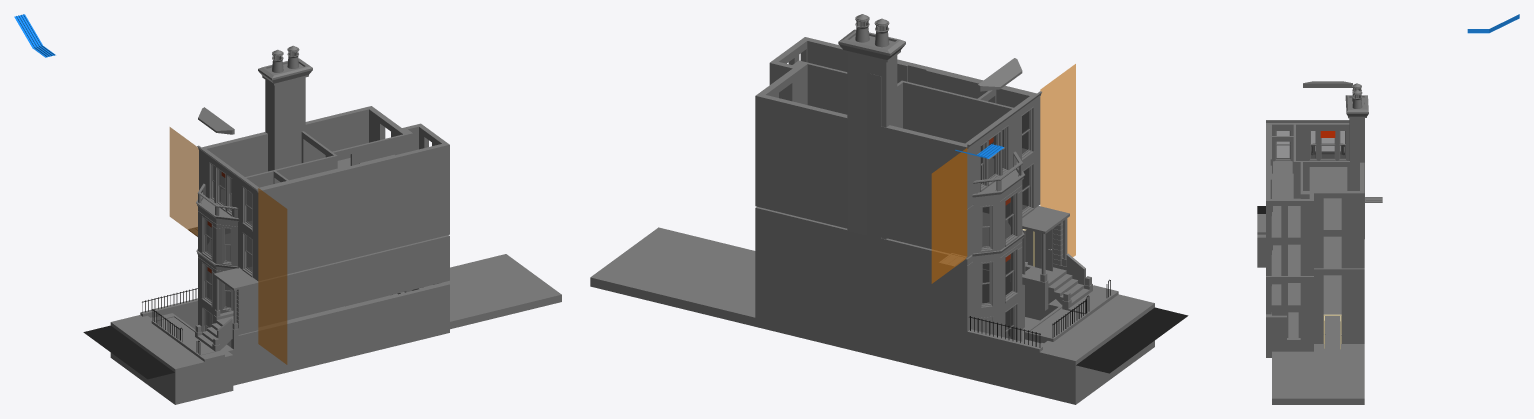
Rendered from VictorianBuilding.gltf.
3 renders of one model, left to right at view 1: azimuth 30°, elevation 25°; view 2: azimuth 150°, elevation 25°; view 3: azimuth 270°, elevation 25°, orthographic. The views are drawn at different scales.
Parts seen in each view (by area): view 1: object 34, object 59, object 33, object 26, object 60, object 88, object 130, object 61, object 89, object 11, object 65, object 21 (+5 smaller); view 2: object 34, object 59, object 26, object 33, object 60, object 130, object 88, object 89, object 61, object 11, object 65, Window_01 (×4) (+10 smaller); view 3: object 34, object 60, object 59, object 66, object 33, object 26, object 61, object 21, object 130, Window_01 (×2), object 27, Window_01#1 (×2) (+1 smaller).
Boxes of the visible parts, box(x1,y1,x2,y2) form: object 34: box(199, 106, 449, 235); object 59: box(150, 281, 449, 397); object 33: box(198, 190, 449, 281); object 26: box(198, 238, 449, 326); object 60: box(429, 254, 561, 329); object 88: box(258, 188, 287, 364); object 130: box(258, 58, 312, 171); object 61: box(110, 306, 449, 404); object 89: box(169, 127, 198, 236); object 11: box(110, 315, 233, 372); object 65: box(83, 325, 174, 379); object 21: box(207, 233, 449, 290); object 34: box(755, 37, 1040, 201); object 59: box(755, 262, 1106, 395); object 26: box(755, 209, 1032, 314); object 33: box(755, 151, 1040, 257); object 60: box(590, 227, 755, 326); object 130: box(838, 29, 905, 239); object 88: box(1040, 64, 1075, 256); object 89: box(931, 148, 967, 283); object 61: box(755, 317, 1154, 404); object 11: box(1039, 294, 1154, 365); object 65: box(1076, 307, 1188, 373); Window_01 (×4): box(1005, 107, 1034, 303); object 34: box(1266, 123, 1364, 237); object 60: box(1272, 344, 1364, 404); object 59: box(1257, 240, 1364, 351); object 66: box(1266, 161, 1364, 239); object 33: box(1266, 206, 1364, 275); object 26: box(1266, 245, 1364, 314); object 61: box(1257, 245, 1341, 357); object 21: box(1266, 206, 1364, 278); object 130: box(1345, 95, 1368, 238); Window_01 (×2): box(1274, 130, 1336, 160); object 27: box(1271, 283, 1300, 312); Window_01#1 (×2): box(1309, 130, 1346, 160).
Size of the model in its own units: 26.89 by 16.68 by 19.97.
